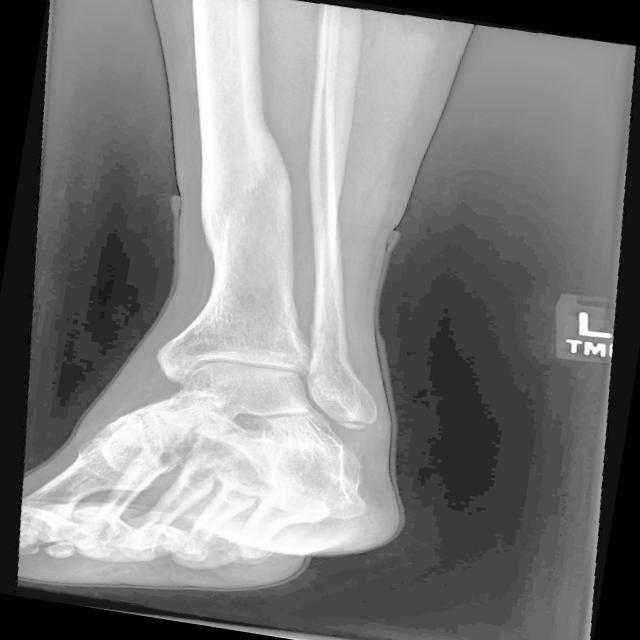Avlusion Fracture: (280, 339, 392, 437)
